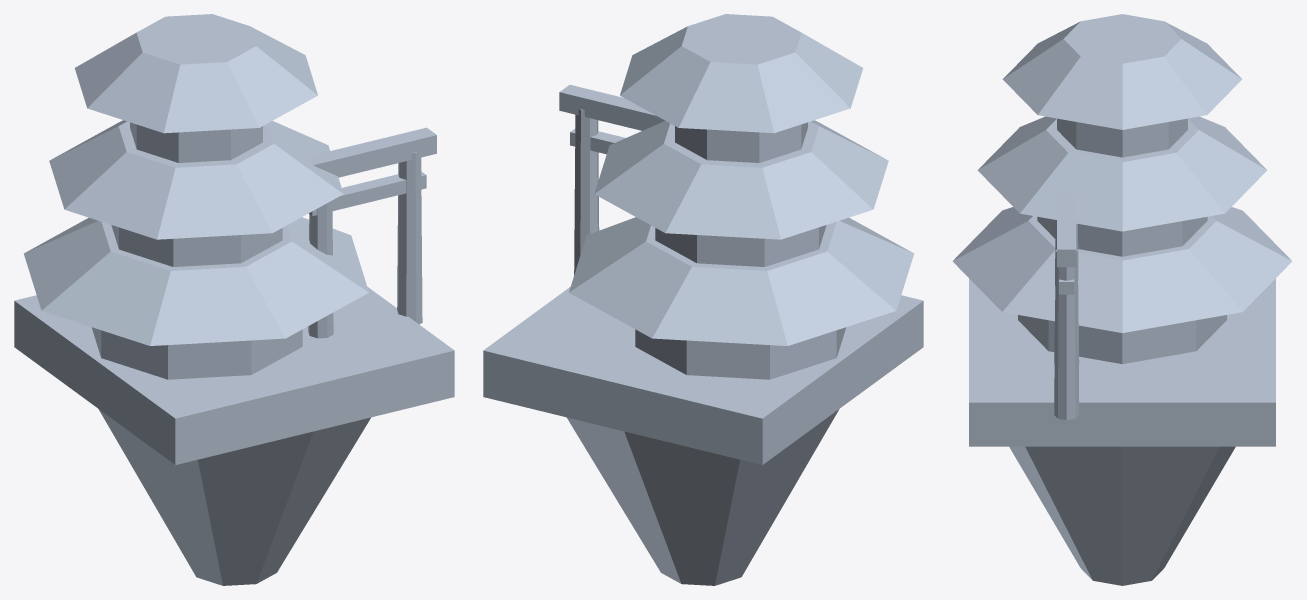
The model's file is sil_w3.glb.
3 views of the same model, side by side, from view 1: azimuth 30°, elevation 25°; view 2: azimuth 150°, elevation 25°; view 3: azimuth 270°, elevation 25° (orthographic). The views are drawn at different scales.
Visible parts, largest first — view 1: SilW3; view 2: SilW3; view 3: SilW3.
Part boxes in pixels (left/top/right/bottom): SilW3: left=14, top=14, right=454, bottom=585; SilW3: left=483, top=14, right=923, bottom=585; SilW3: left=952, top=14, right=1292, bottom=585.
Bounding box in the file's own units: 28.45 × 40.5 × 24.4.
